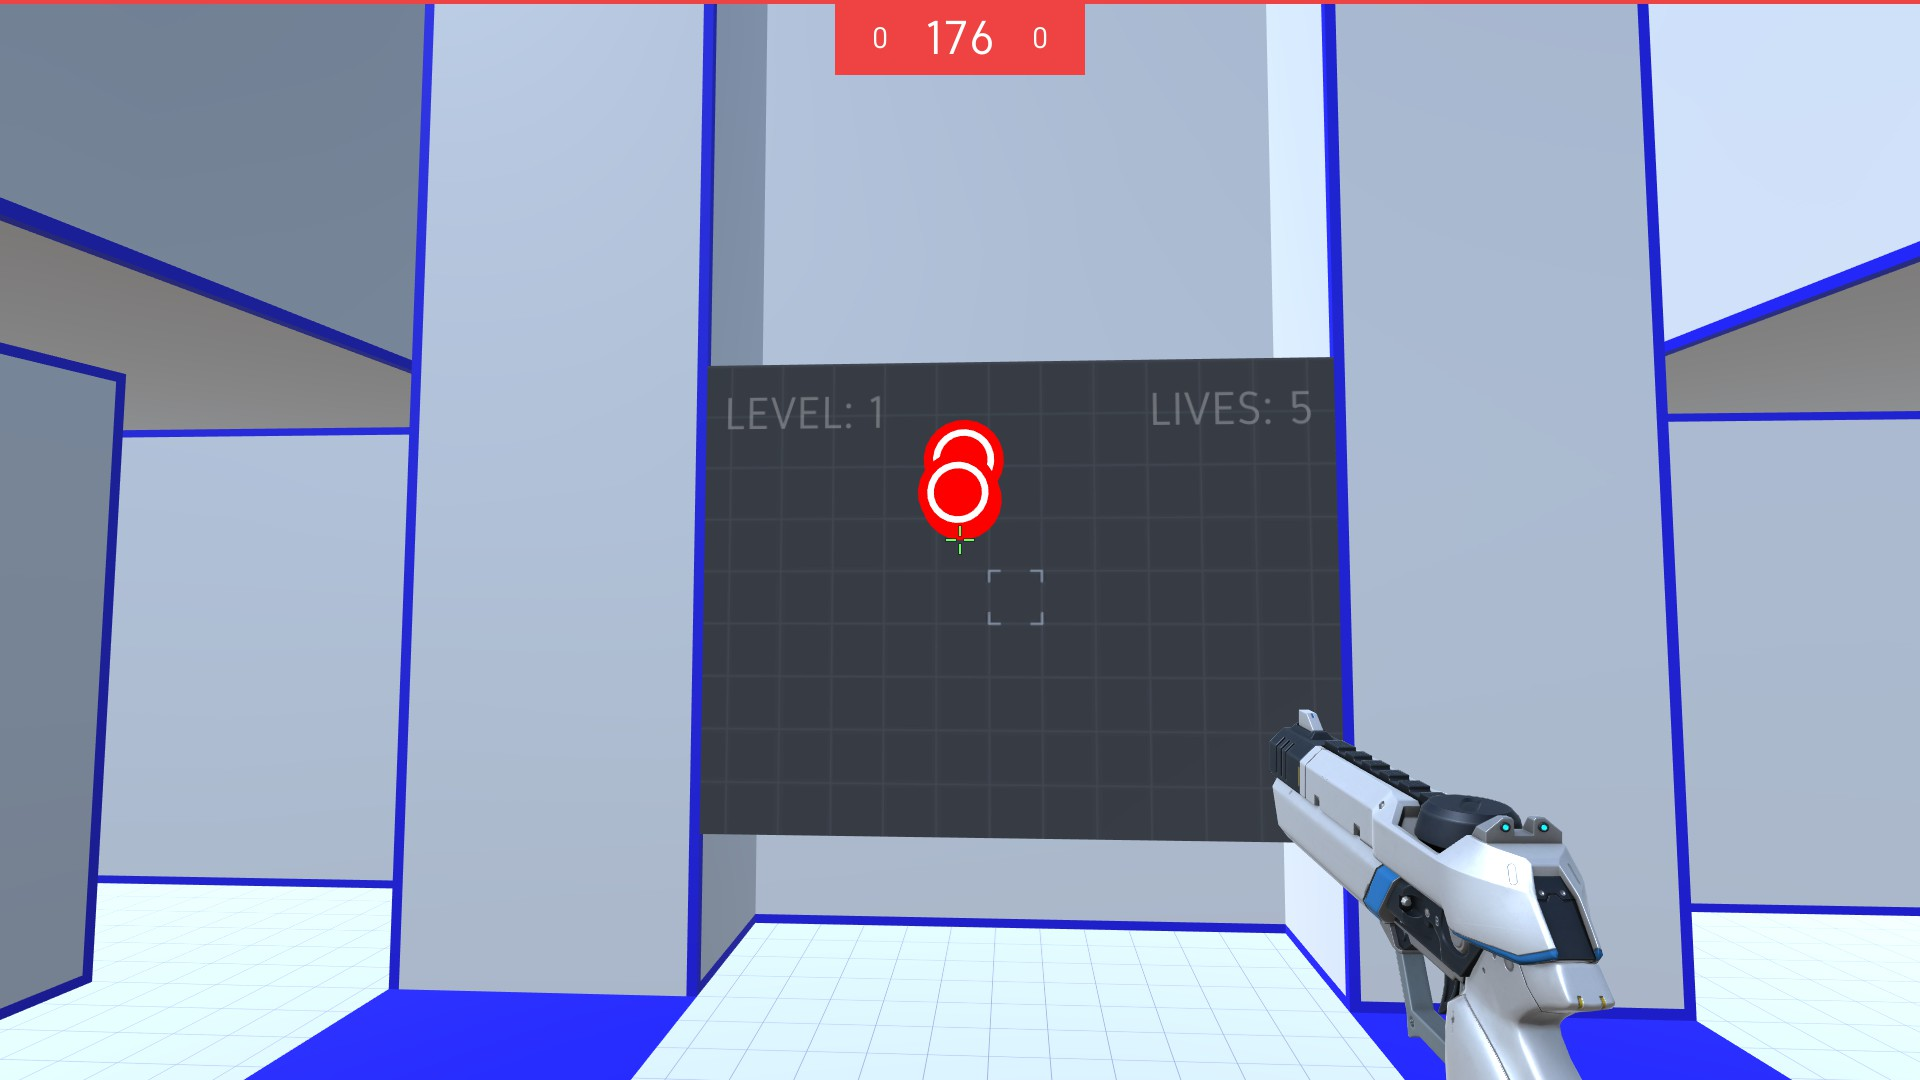target: (916, 460, 1006, 547), (923, 418, 1007, 460)
